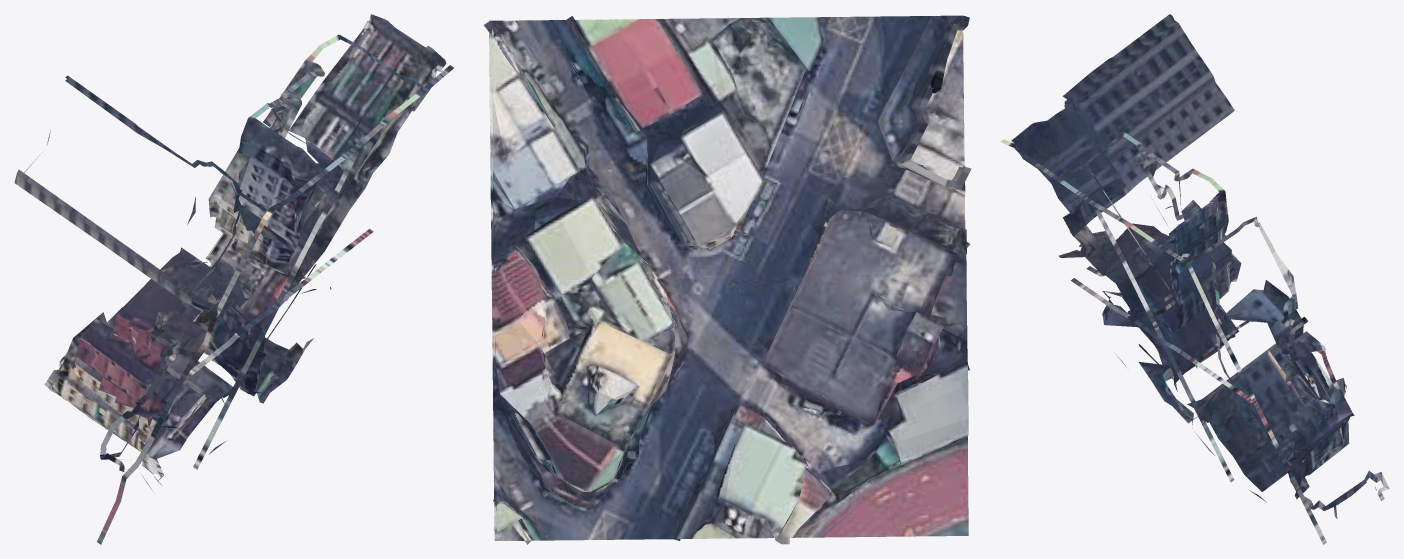
3 renders of one model, left to right at view 1: azimuth 30°, elevation 25°; view 2: azimuth 150°, elevation 25°; view 3: azimuth 270°, elevation 25°, orthographic. The views are drawn at different scales.
Bounding box in the file's own units: 84.26 × 87.24 × 77.33.
2 materials, 2 textured.
